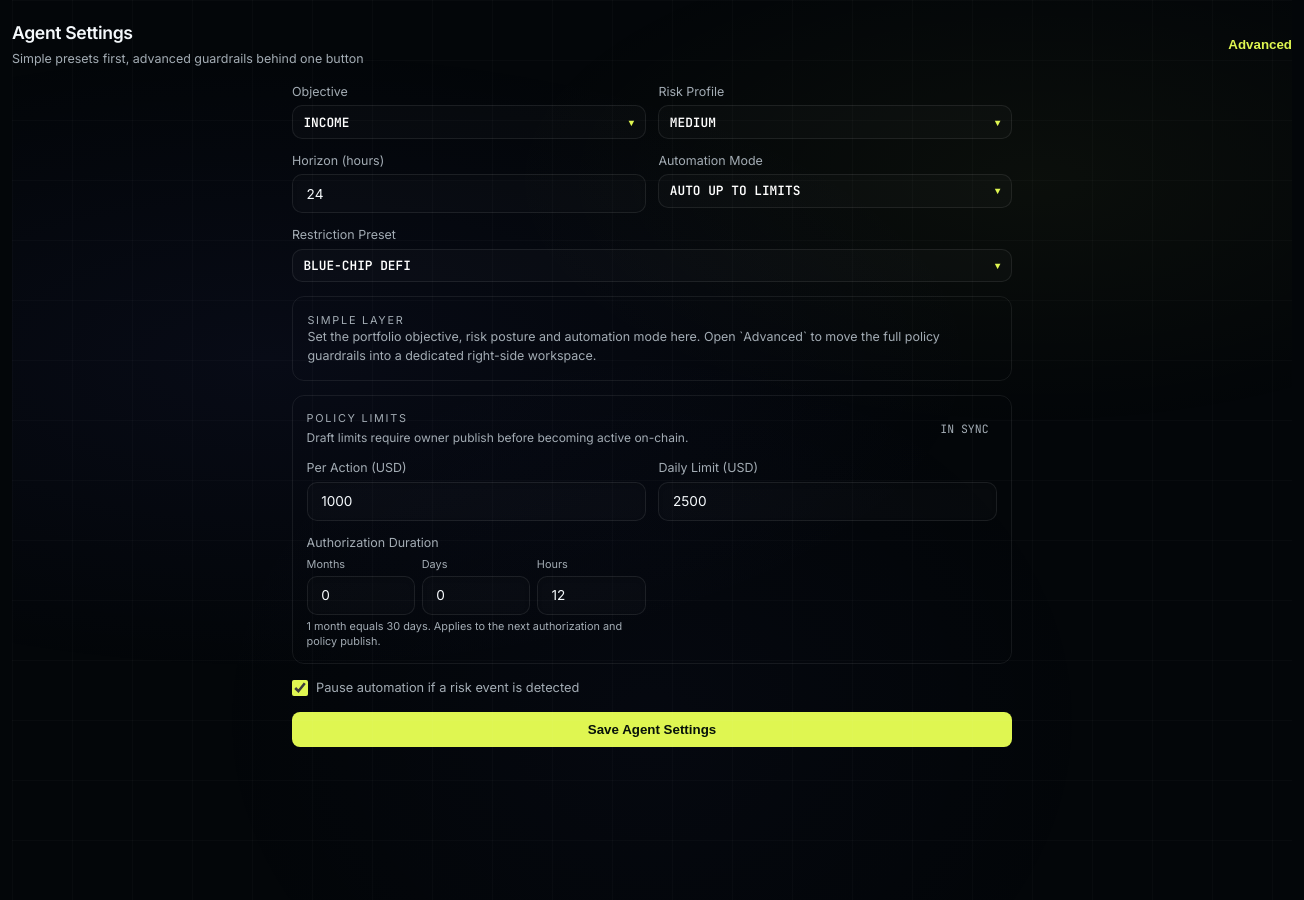
AgentSettingsPanel policy limits › blocks invalid policy limits before saving
Replace the text in the number field labelled "Per Action (USD)" with "3000": (476, 502) [307,482,646,521]
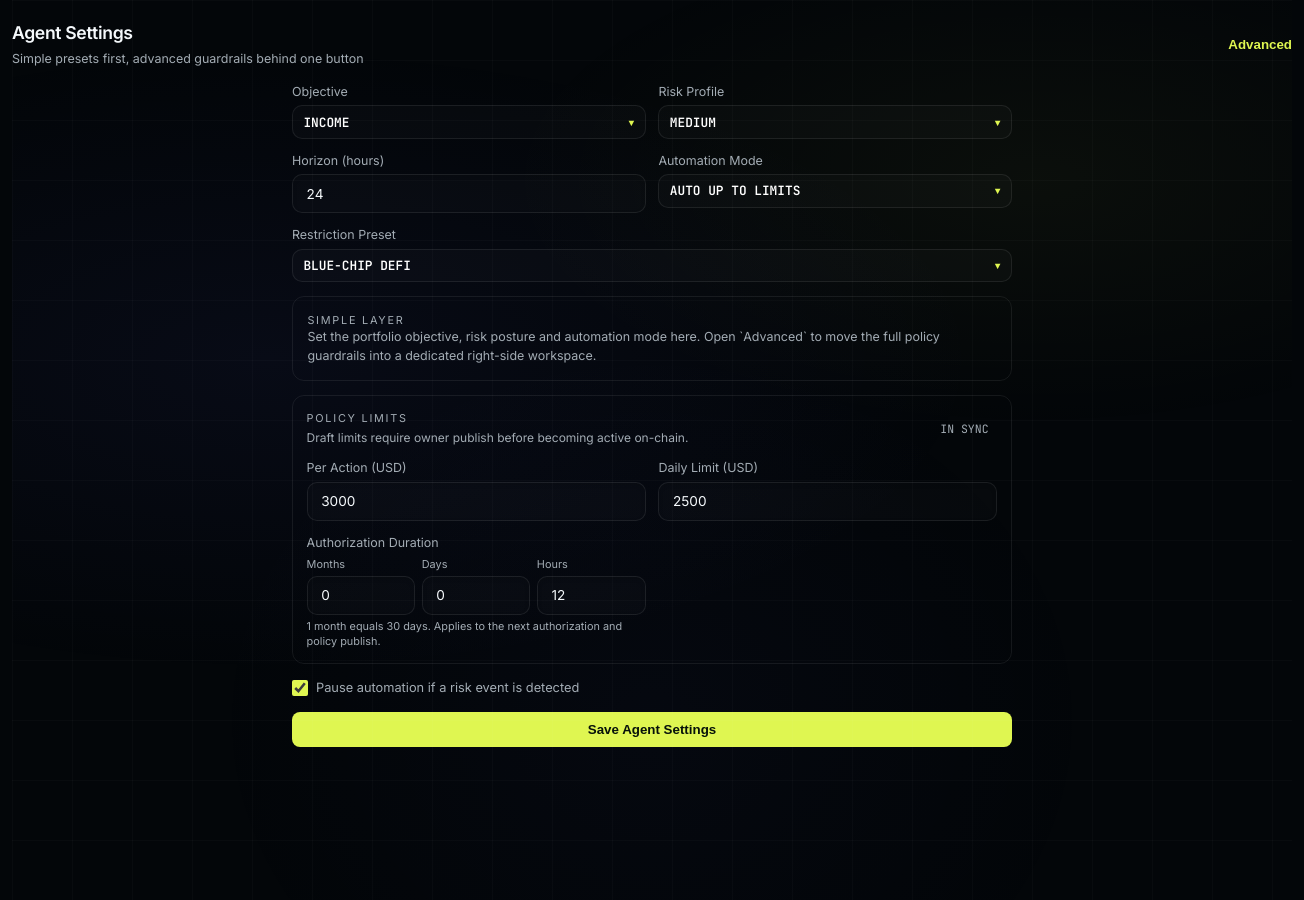
Replace the text in the number field labelled "Daily Limit (USD)" with "1000": (828, 502) [658,482,997,521]
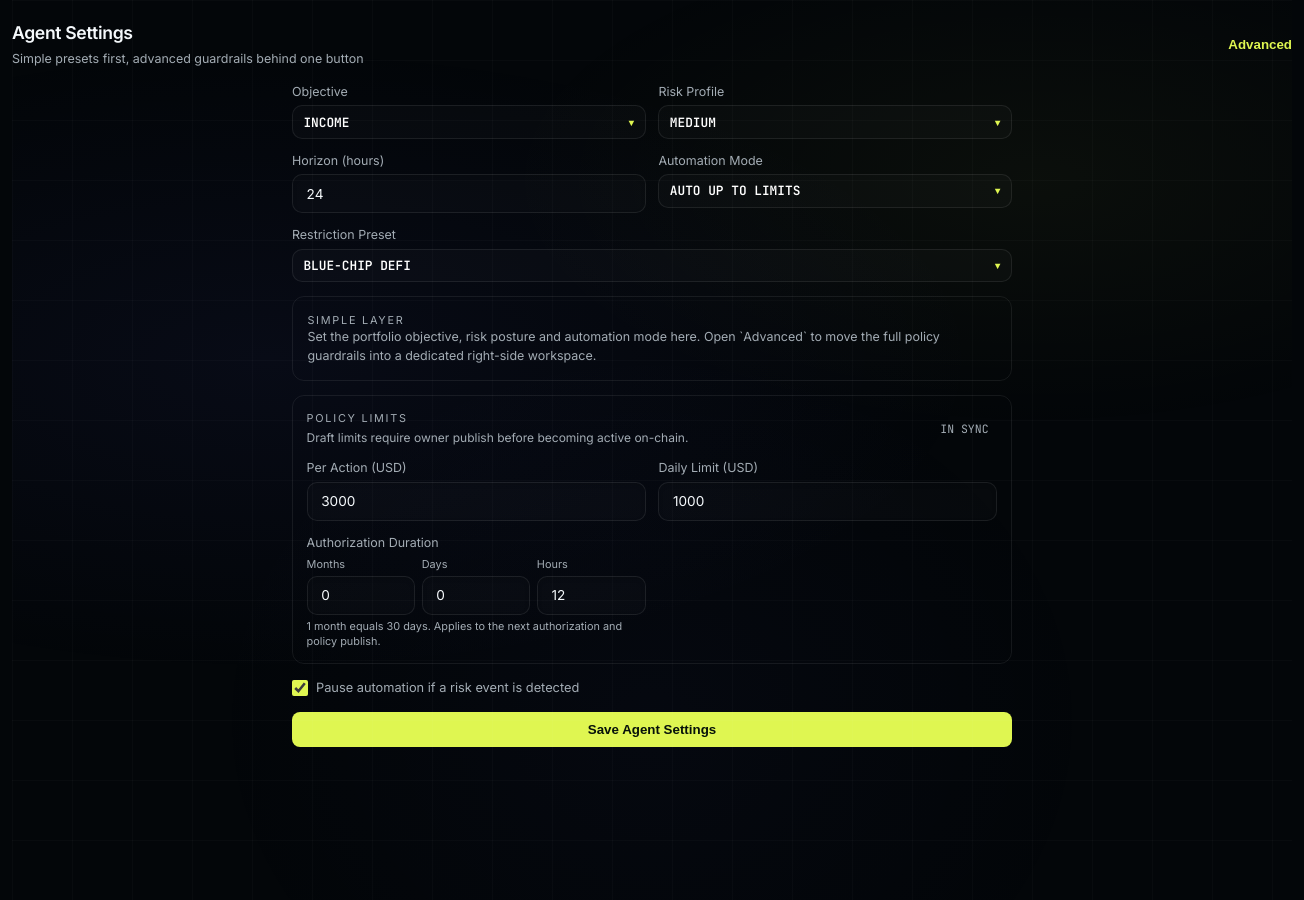
Click the button "Save Agent Settings": (652, 730) [292,712,1012,748]
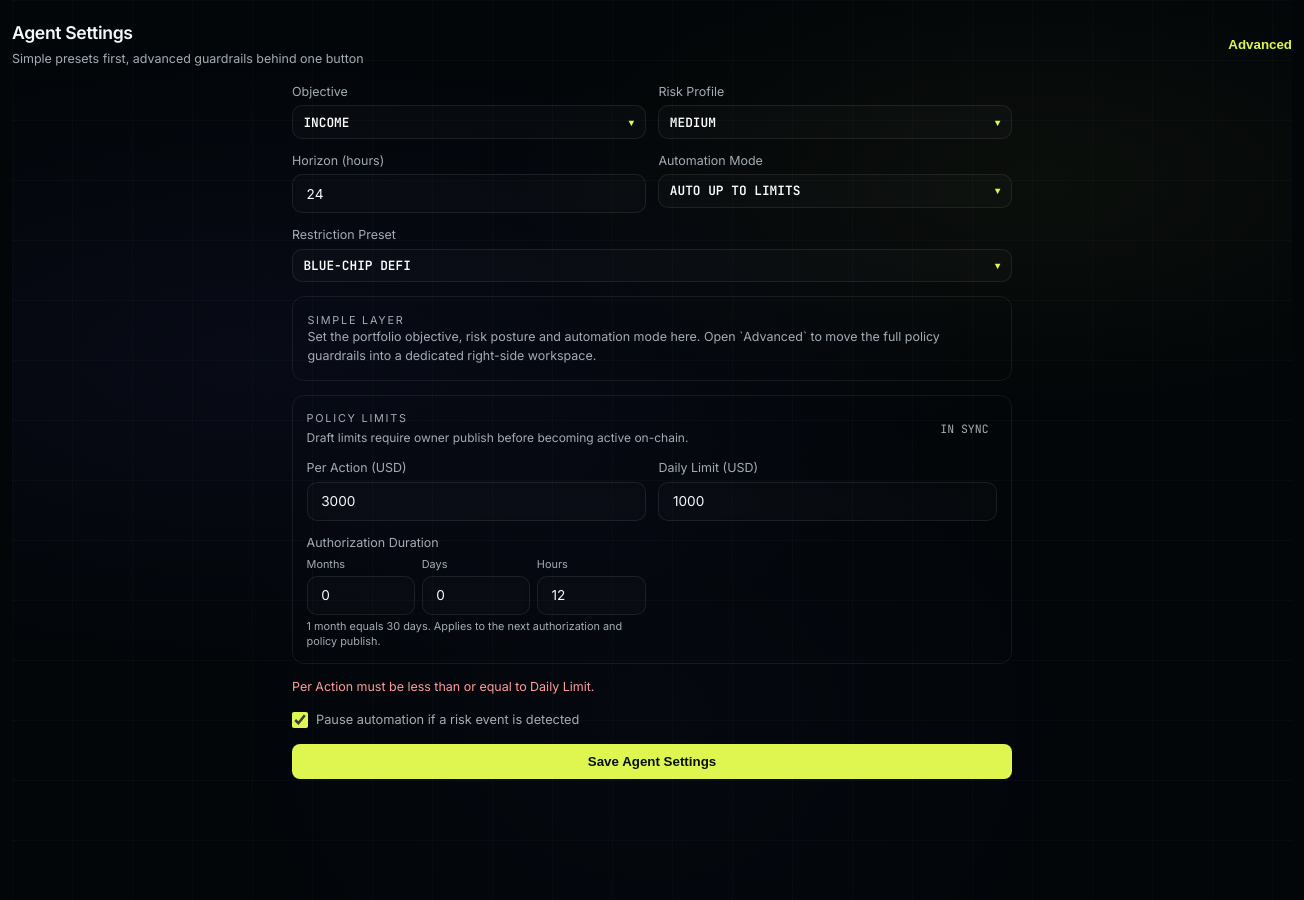
Expected: the text "Per Action must be less than or equal to Daily Limit." is shown, [292,679,594,694]
